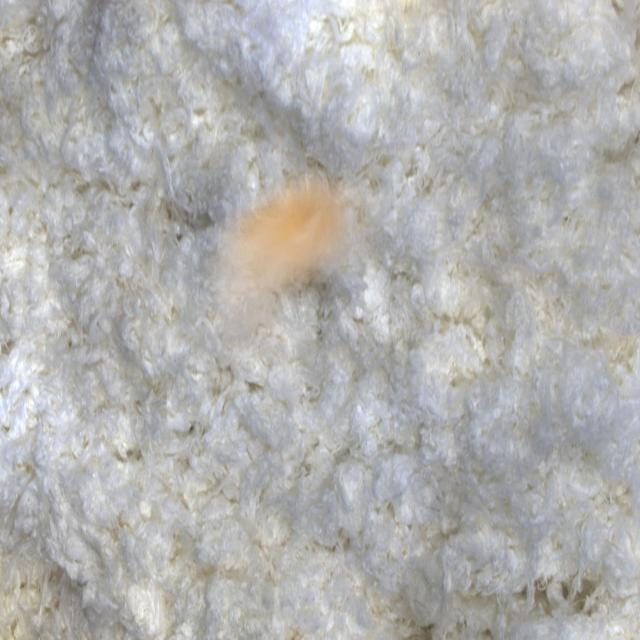dust: (198, 166, 383, 389)
